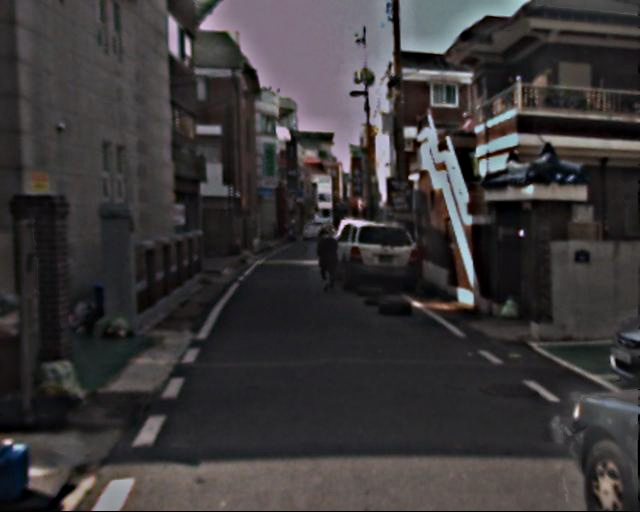person: (315, 227, 342, 294)
